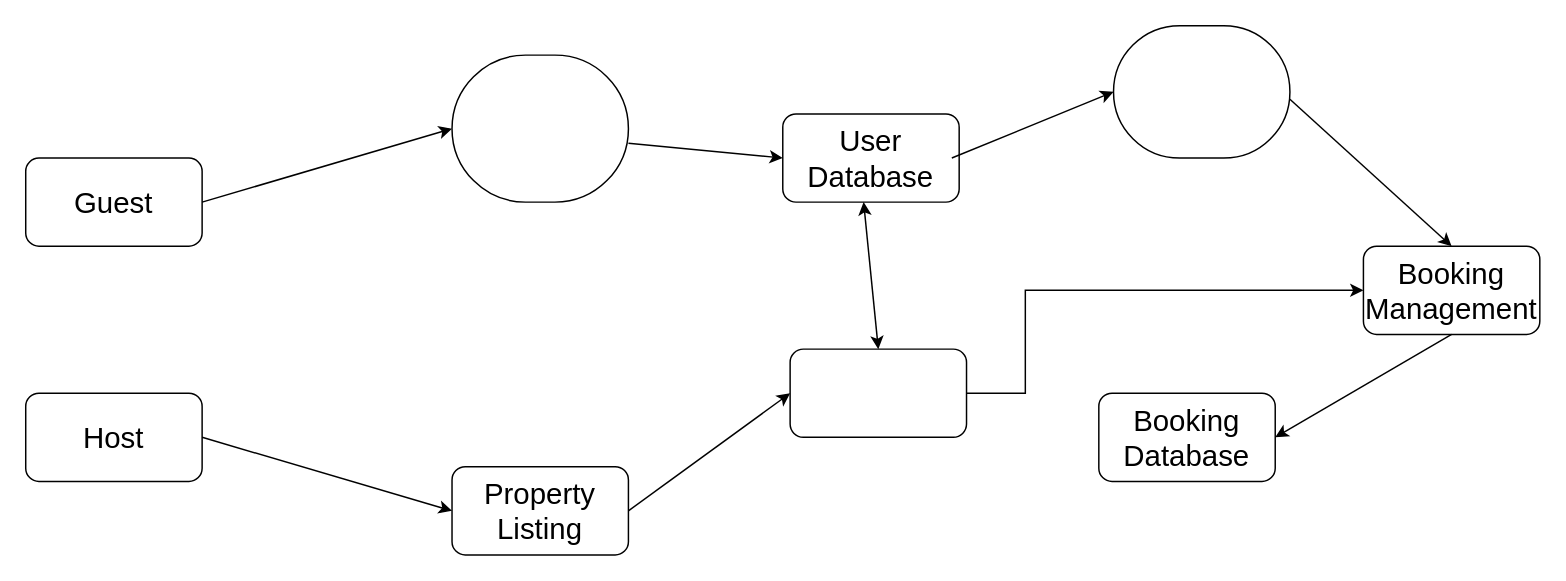
Image size: 1566x581. Some labels were removed from this diagram. Each missing label, with the box of its shape:
Property Listings: (789, 348, 967, 437)
Search Properties: (1112, 24, 1290, 158)
User Registration: (451, 54, 628, 202)
